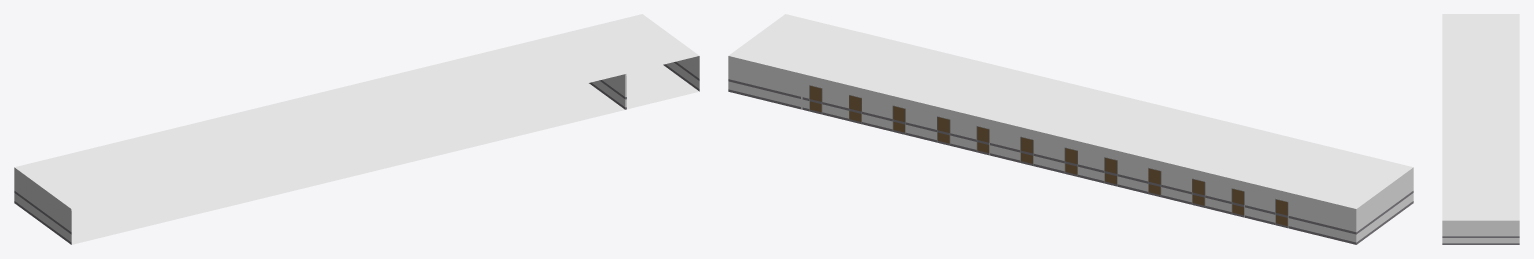
The model's file is clinicFinal.fbx.
The picture shows the model from 3 angles, left to right: view 1: azimuth 30°, elevation 25°; view 2: azimuth 150°, elevation 25°; view 3: azimuth 270°, elevation 25°; orthographic projection. The views are drawn at different scales.
Visible parts, largest first — view 1: clinic.001; view 2: clinic.001; view 3: clinic.001.
Boxes of the visible parts, box(x1,y1,x2,y2) form: clinic.001: box(14, 14, 699, 244); clinic.001: box(728, 14, 1413, 244); clinic.001: box(1442, 14, 1519, 244).
Bounding box in the file's own units: 12694 × 693 × 2008.
